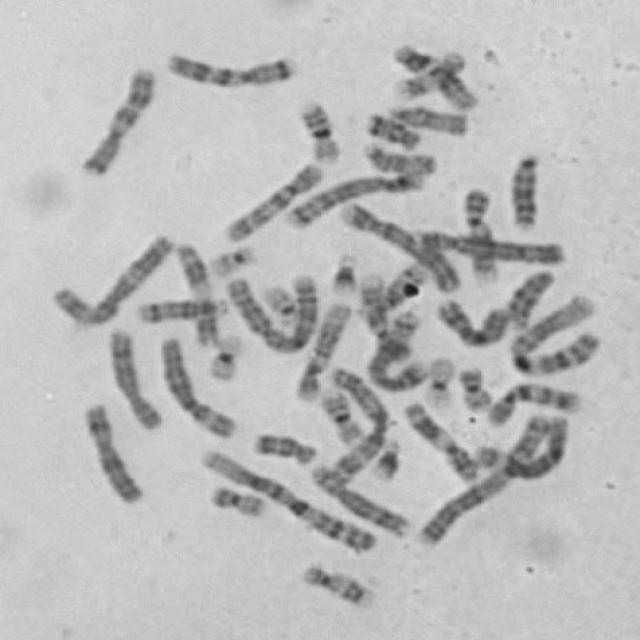A1: (195, 444, 380, 556), (503, 287, 605, 377)
A2: (412, 406, 564, 550), (219, 265, 323, 355)
A3: (46, 225, 179, 327), (320, 361, 391, 483)
B4: (336, 197, 465, 296), (407, 223, 566, 266)
B5: (278, 166, 426, 230), (362, 302, 432, 394)
C10: (217, 156, 328, 244), (480, 375, 584, 428)
C11: (398, 395, 483, 485), (171, 238, 220, 348)
C12: (387, 38, 480, 112), (289, 298, 352, 403)
C6: (152, 329, 241, 441), (469, 410, 569, 483)
C7: (71, 58, 159, 179), (158, 46, 300, 90)
C8: (303, 458, 412, 538), (101, 322, 165, 431)
C9: (354, 268, 414, 365), (459, 182, 500, 282)
D13: (501, 262, 558, 330), (503, 147, 544, 231)
D14: (352, 256, 432, 322), (132, 291, 232, 325)
D15: (382, 98, 470, 137), (358, 137, 440, 176)
E16: (293, 94, 344, 166), (313, 382, 366, 446)
E17: (390, 46, 469, 101), (296, 558, 379, 610)
E18: (246, 425, 320, 466), (359, 108, 424, 152)
F19: (202, 328, 246, 384), (418, 350, 459, 409)
F20: (203, 478, 270, 520), (452, 361, 496, 414)
G21: (366, 432, 403, 482), (324, 246, 360, 296)
G22: (204, 239, 260, 279), (257, 278, 302, 326)
X: (75, 397, 148, 505), (430, 291, 515, 349)
